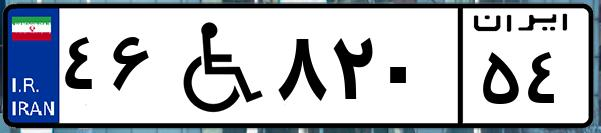0: (385, 28, 445, 110)
2: (330, 28, 385, 110)
4: (57, 26, 110, 100), (525, 38, 570, 115)
5: (475, 38, 525, 113)
6: (110, 28, 158, 98)
8: (270, 28, 330, 110)
ژ (معلولین و جانبازان): (158, 12, 270, 120)
